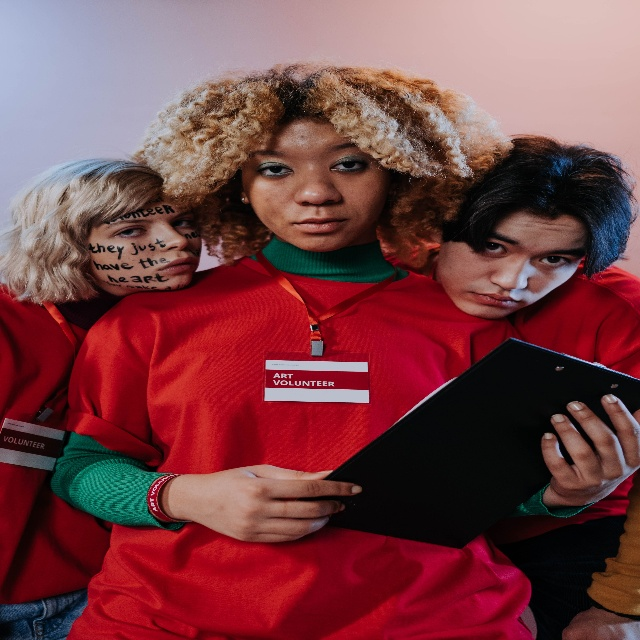Sin_guantes: (180, 470, 363, 546), (541, 394, 640, 494)
